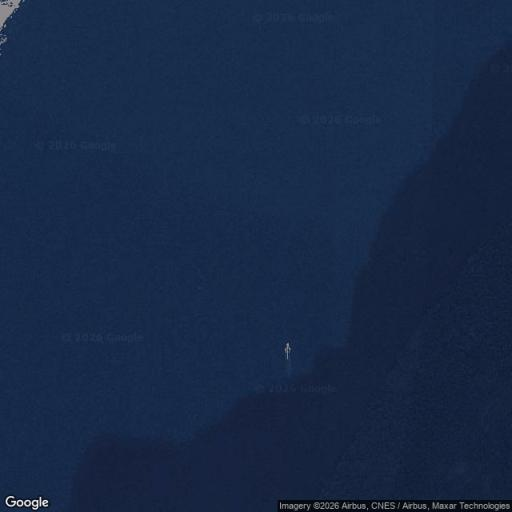ship: (284, 341, 295, 362)
